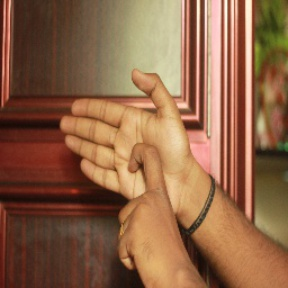R: (56, 66, 200, 266)
